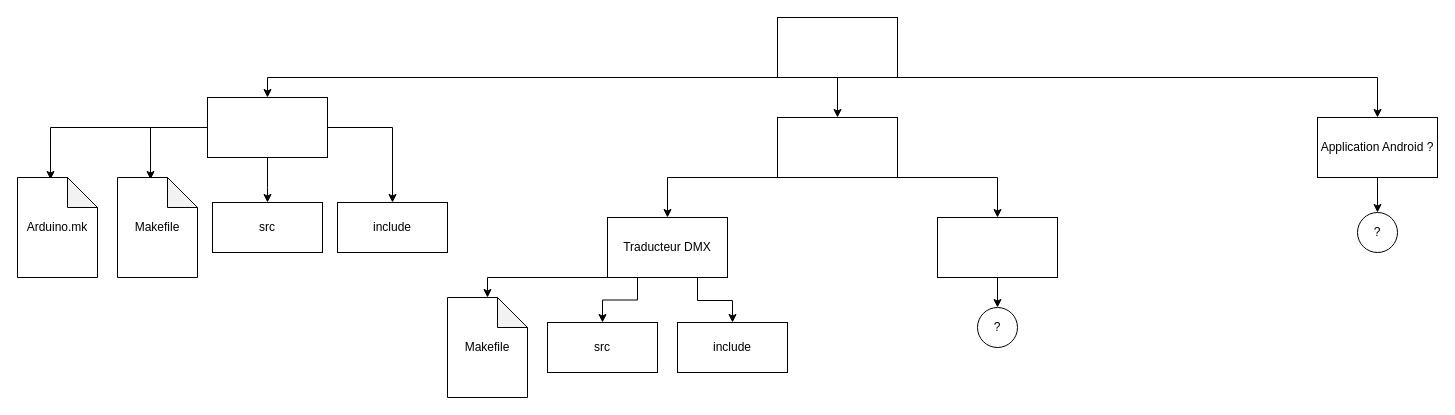
Some shapes in this 1455 by 415 pixel diagram are drawn without their labels. Here are the shapes that lost their labels. From the top down, the centre of each, then its label:
[837,47]: Sources
[267,127]: Télécomande
[837,147]: Raspberry Pi
[997,247]: Serveur web ?
